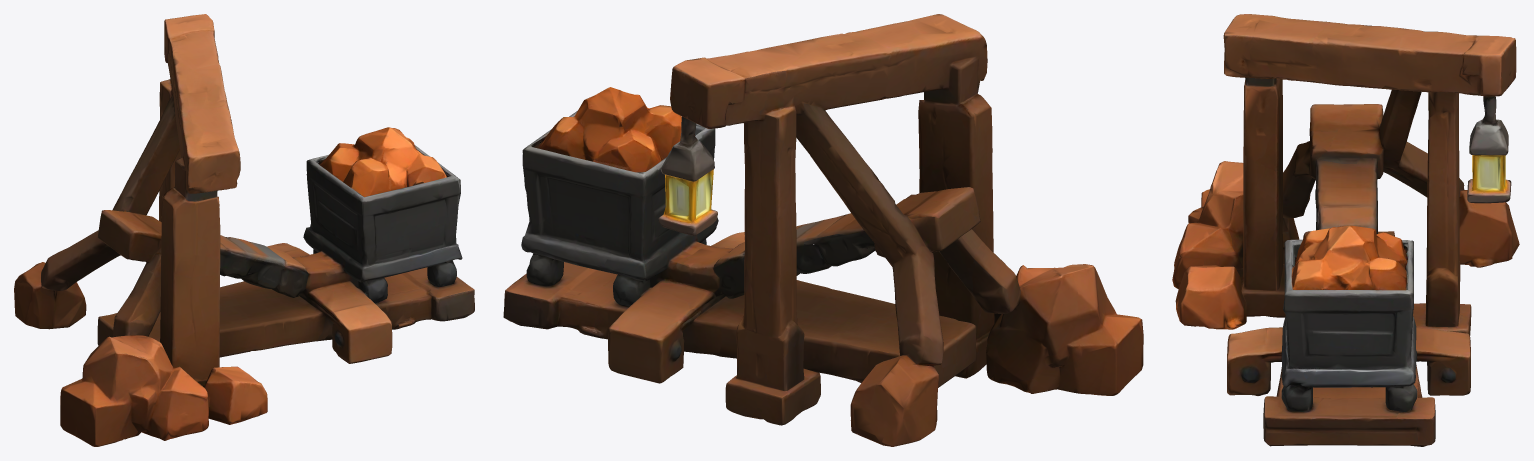
File: 3D-woodenminer.glb
3 renders of one model, left to right at view 1: azimuth 30°, elevation 25°; view 2: azimuth 150°, elevation 25°; view 3: azimuth 270°, elevation 25°, orthographic. The views are drawn at different scales.
Parts seen in each view (by area): view 1: tripo_node_5f31ebdf-95e2-452c-99cb-0e2f48735072; view 2: tripo_node_5f31ebdf-95e2-452c-99cb-0e2f48735072; view 3: tripo_node_5f31ebdf-95e2-452c-99cb-0e2f48735072.
Part boxes in pixels (left/top/right/bottom): tripo_node_5f31ebdf-95e2-452c-99cb-0e2f48735072: left=14, top=14, right=474, bottom=446; tripo_node_5f31ebdf-95e2-452c-99cb-0e2f48735072: left=503, top=14, right=1143, bottom=446; tripo_node_5f31ebdf-95e2-452c-99cb-0e2f48735072: left=1172, top=14, right=1519, bottom=446.
Bounding box in the file's own units: 0.9801 × 0.633 × 0.6269.
1 material, 1 textured.
